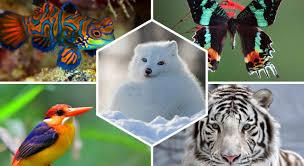Non_Gorille: (17, 3, 304, 166)
